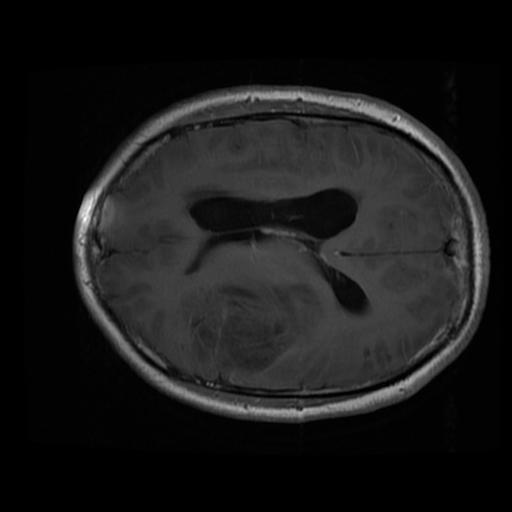glioma: (181, 283, 323, 379)
